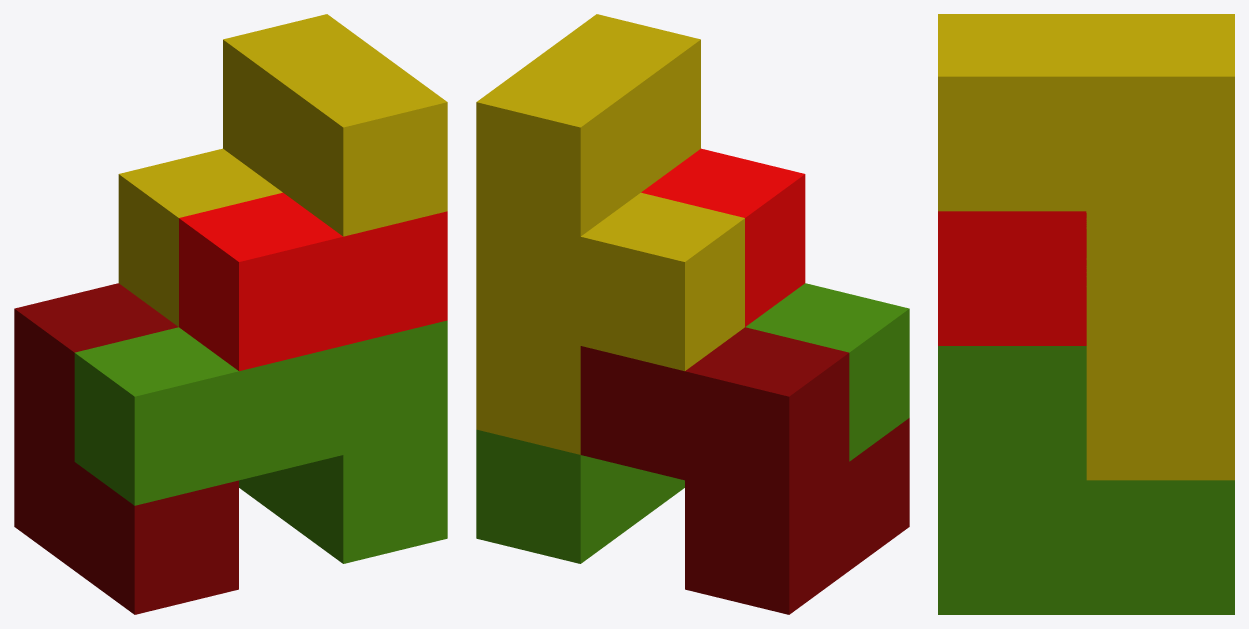
3 views of the same model, side by side, from view 1: azimuth 30°, elevation 25°; view 2: azimuth 150°, elevation 25°; view 3: azimuth 270°, elevation 25° (orthographic). The views are drawn at different scales.
Parts seen in each view (by area): view 1: mergedBlocks(Clone); view 2: mergedBlocks(Clone); view 3: mergedBlocks(Clone).
Part boxes in pixels (bbox=[...]): mergedBlocks(Clone): bbox=[14, 14, 447, 614]; mergedBlocks(Clone): bbox=[476, 14, 909, 614]; mergedBlocks(Clone): bbox=[938, 14, 1234, 614].
Size of the model in its own units: 3 by 4 by 2.
Materials: 4 (4 with a texture image).
